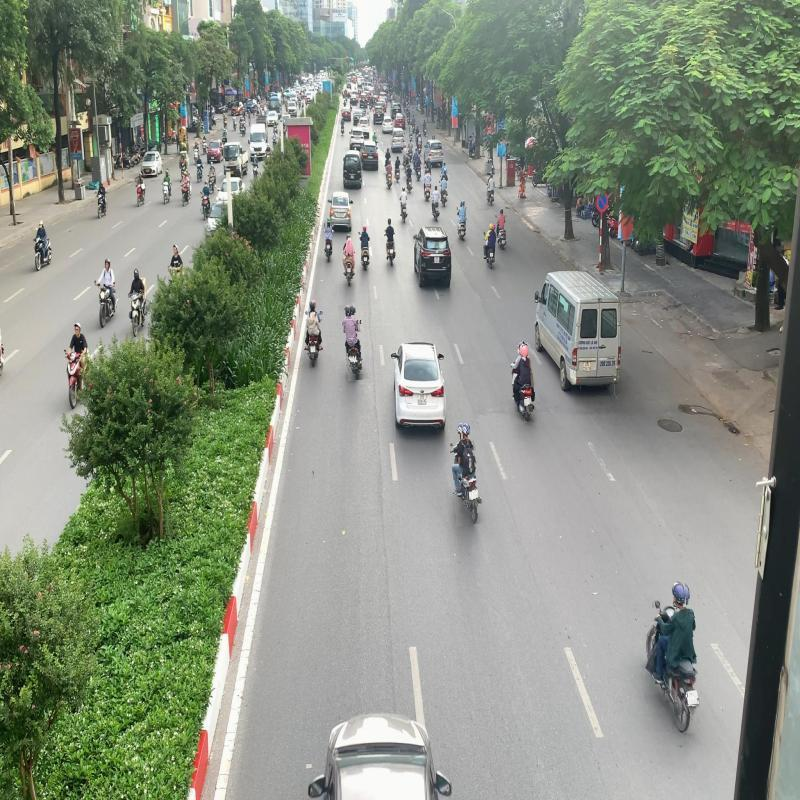helmet: (672, 581, 686, 607), (461, 422, 470, 439), (348, 304, 356, 315), (522, 344, 528, 357)
licenseplate: (686, 689, 700, 705), (468, 489, 476, 500), (524, 397, 530, 406), (349, 355, 354, 363)
motorcyclist: (645, 578, 702, 732), (450, 420, 482, 526), (510, 341, 536, 424), (340, 302, 366, 380)
